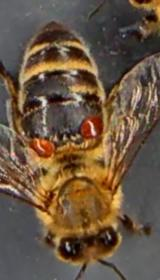varroa_mite: (72, 106, 106, 148), (29, 130, 55, 166)
